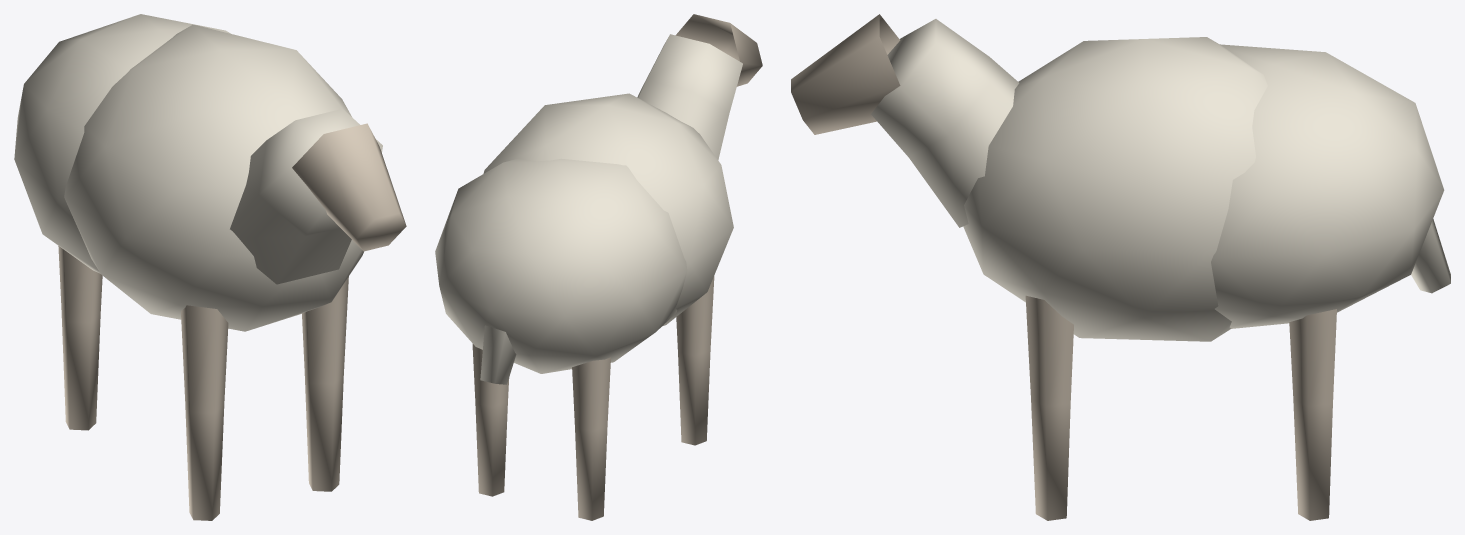
The model's file is sheep_0.glb.
3 renders of one model, left to right at view 1: azimuth 30°, elevation 25°; view 2: azimuth 150°, elevation 25°; view 3: azimuth 270°, elevation 25°, orthographic. The views are drawn at different scales.
Visible parts, largest first — view 1: sheep_0.glb; view 2: sheep_0.glb; view 3: sheep_0.glb.
Part boxes in pixels (bbox=[...]): sheep_0.glb: bbox=[14, 14, 406, 520]; sheep_0.glb: bbox=[435, 14, 762, 520]; sheep_0.glb: bbox=[791, 14, 1450, 520].
Bounding box in the file's own units: 0.5251 × 0.8282 × 1.08.
